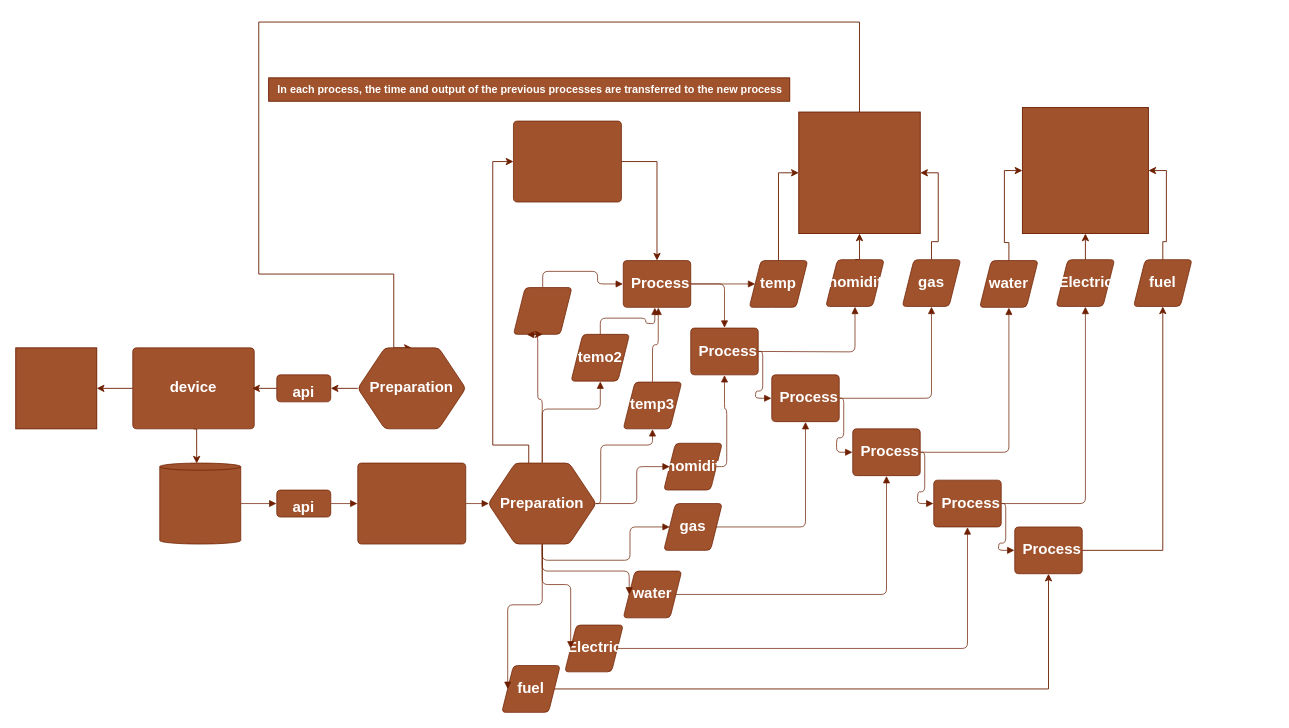
Some shapes in this 1289 by 728 pixel diagram are drawn without their labels. The centre of each missing label's shape, as x and y in pixels:
"Control and display" goes at point (859, 172).
"Database" goes at point (200, 503).
"developer" goes at point (411, 503).
"Device control" goes at point (56, 388).
"Final price and display" goes at point (1085, 170).
"temp1" goes at point (542, 310).
"time and date" goes at point (567, 161).
